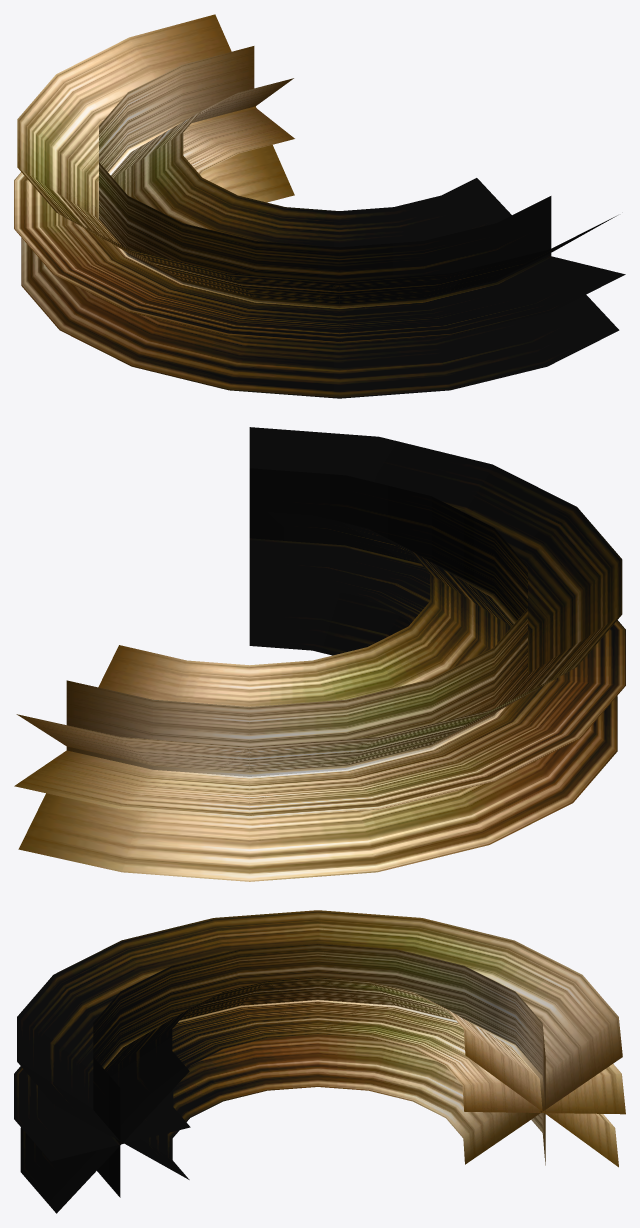
File: tuteng_tuowei02.FBX
The picture shows the model from 3 angles, top to bottom: view 1: azimuth 30°, elevation 25°; view 2: azimuth 150°, elevation 25°; view 3: azimuth 270°, elevation 25°; orthographic projection. The views are drawn at different scales.
Parts seen in each view (by area): view 1: tuteng_tuowei02; view 2: tuteng_tuowei02; view 3: tuteng_tuowei02.
Boxes of the visible parts, x1=… form: tuteng_tuowei02: x1=14, y1=14, x2=625, y2=398; tuteng_tuowei02: x1=14, y1=427, x2=625, y2=881; tuteng_tuowei02: x1=14, y1=910, x2=625, y2=1213.
Bounding box in the file's own units: 46.24 × 12.21 × 61.13.
1 material, 1 textured.
